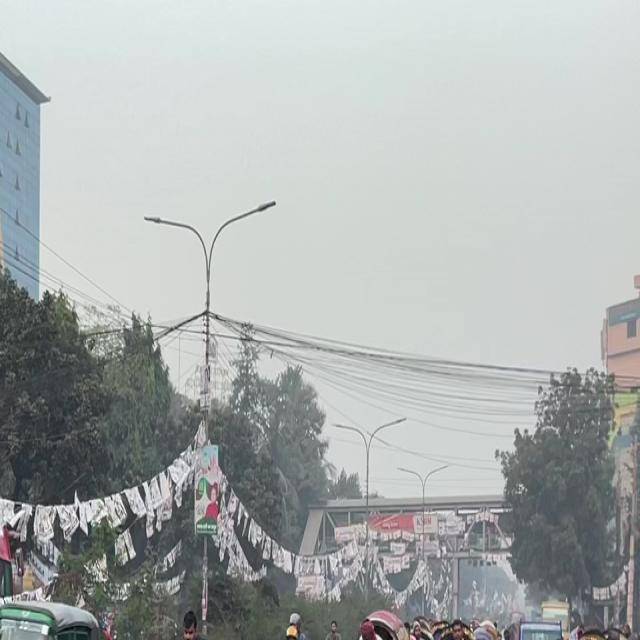bicycle: (157, 590, 217, 640)
motorbike: (269, 603, 313, 640)
rickshaw: (0, 567, 109, 640)
